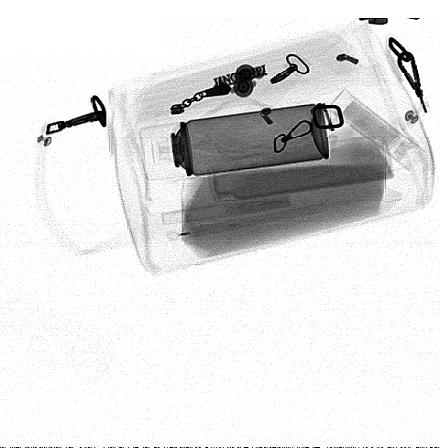Sprayer: (139, 103, 330, 183)
